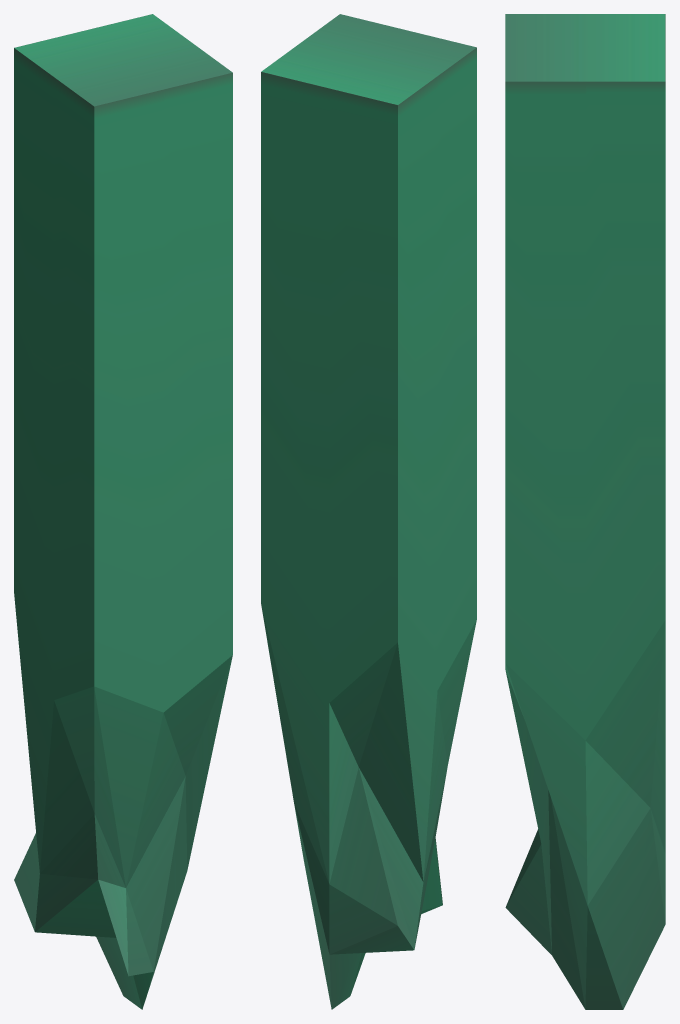
The model's file is block01_Flat.fbx.
3 renders of one model, left to right at view 1: azimuth 30°, elevation 25°; view 2: azimuth 150°, elevation 25°; view 3: azimuth 270°, elevation 25°, orthographic.
Visible parts, largest first — view 1: Cube_18; view 2: Cube_18; view 3: Cube_18.
Part boxes in pixels (box(x1,y1,x2,y2)): Cube_18: box(14, 14, 232, 1009); Cube_18: box(261, 14, 476, 1009); Cube_18: box(505, 14, 665, 1009).
Bounding box in the file's own units: 200 × 1314 × 200.
1 material, 1 textured.
